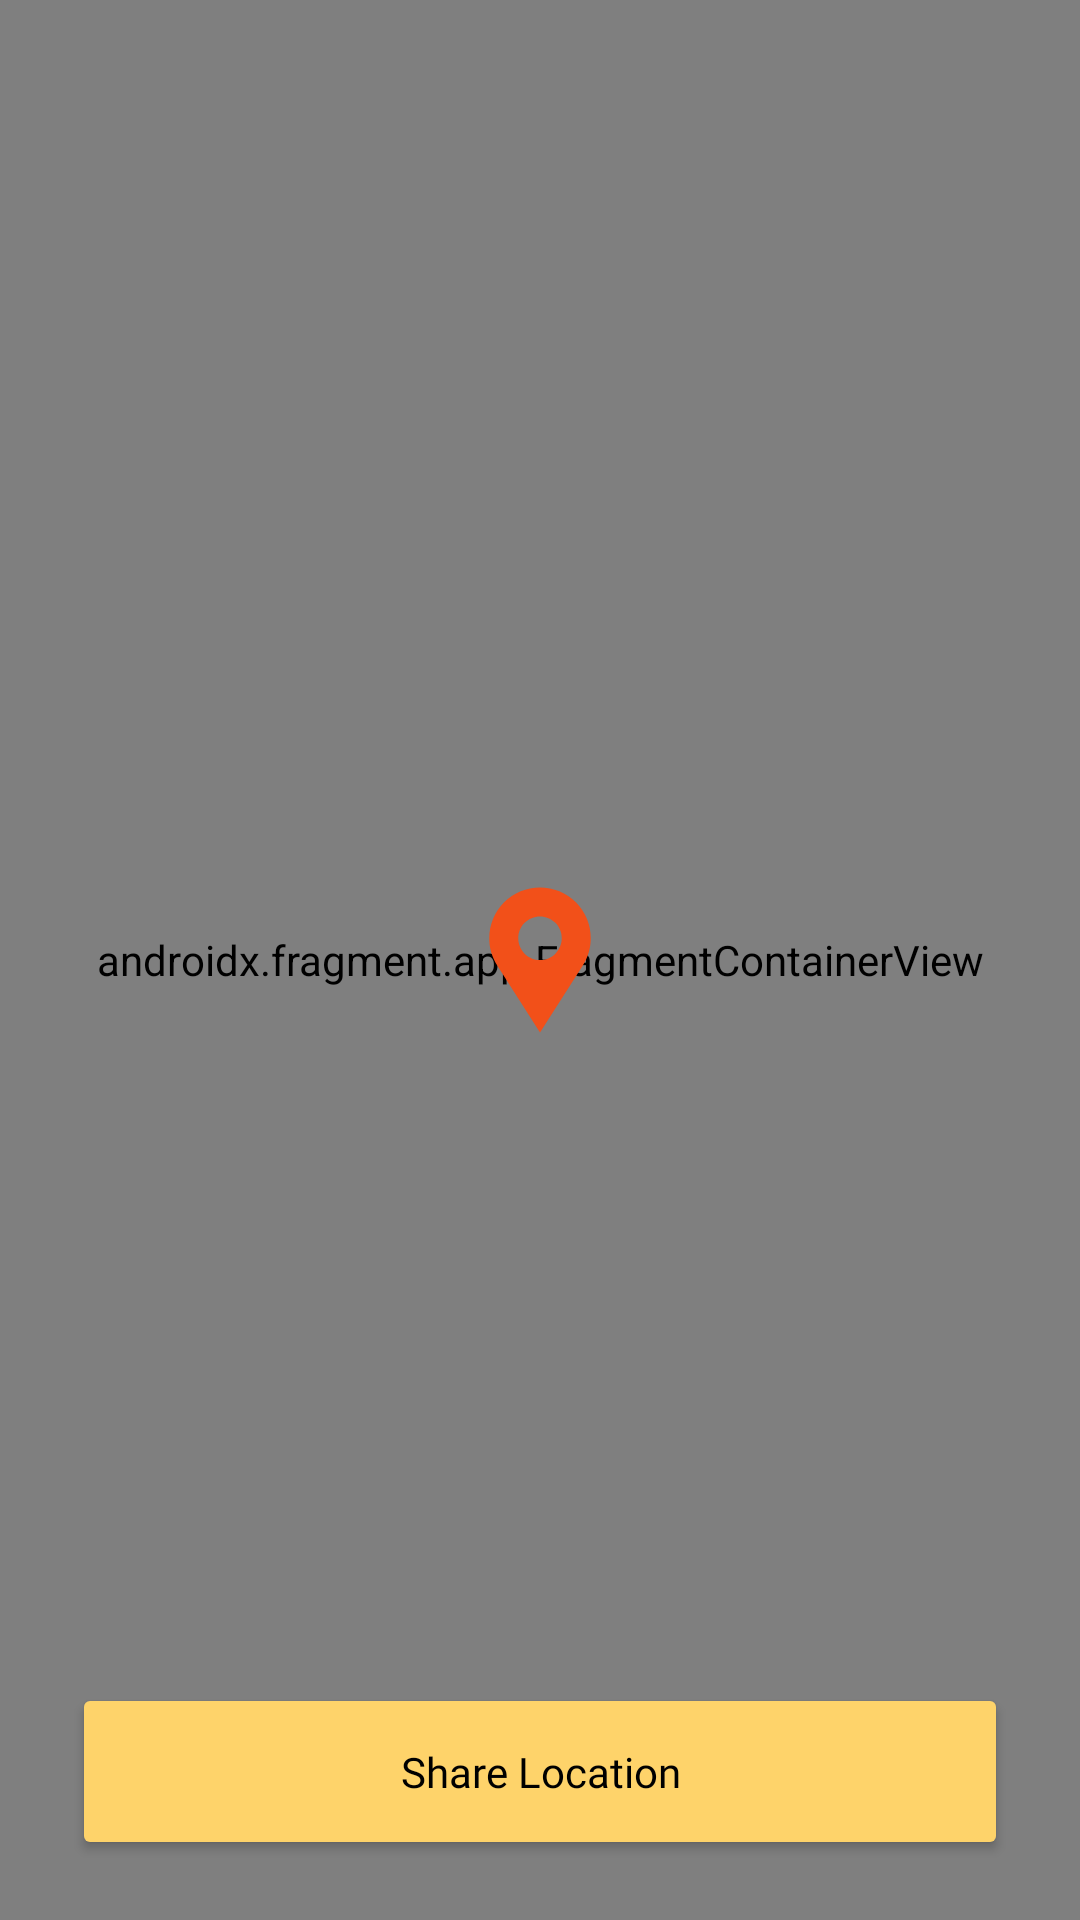

Point at icon controls on the screen. Image size 1080 × 1920, points as (x,y).
location: (534,959)
